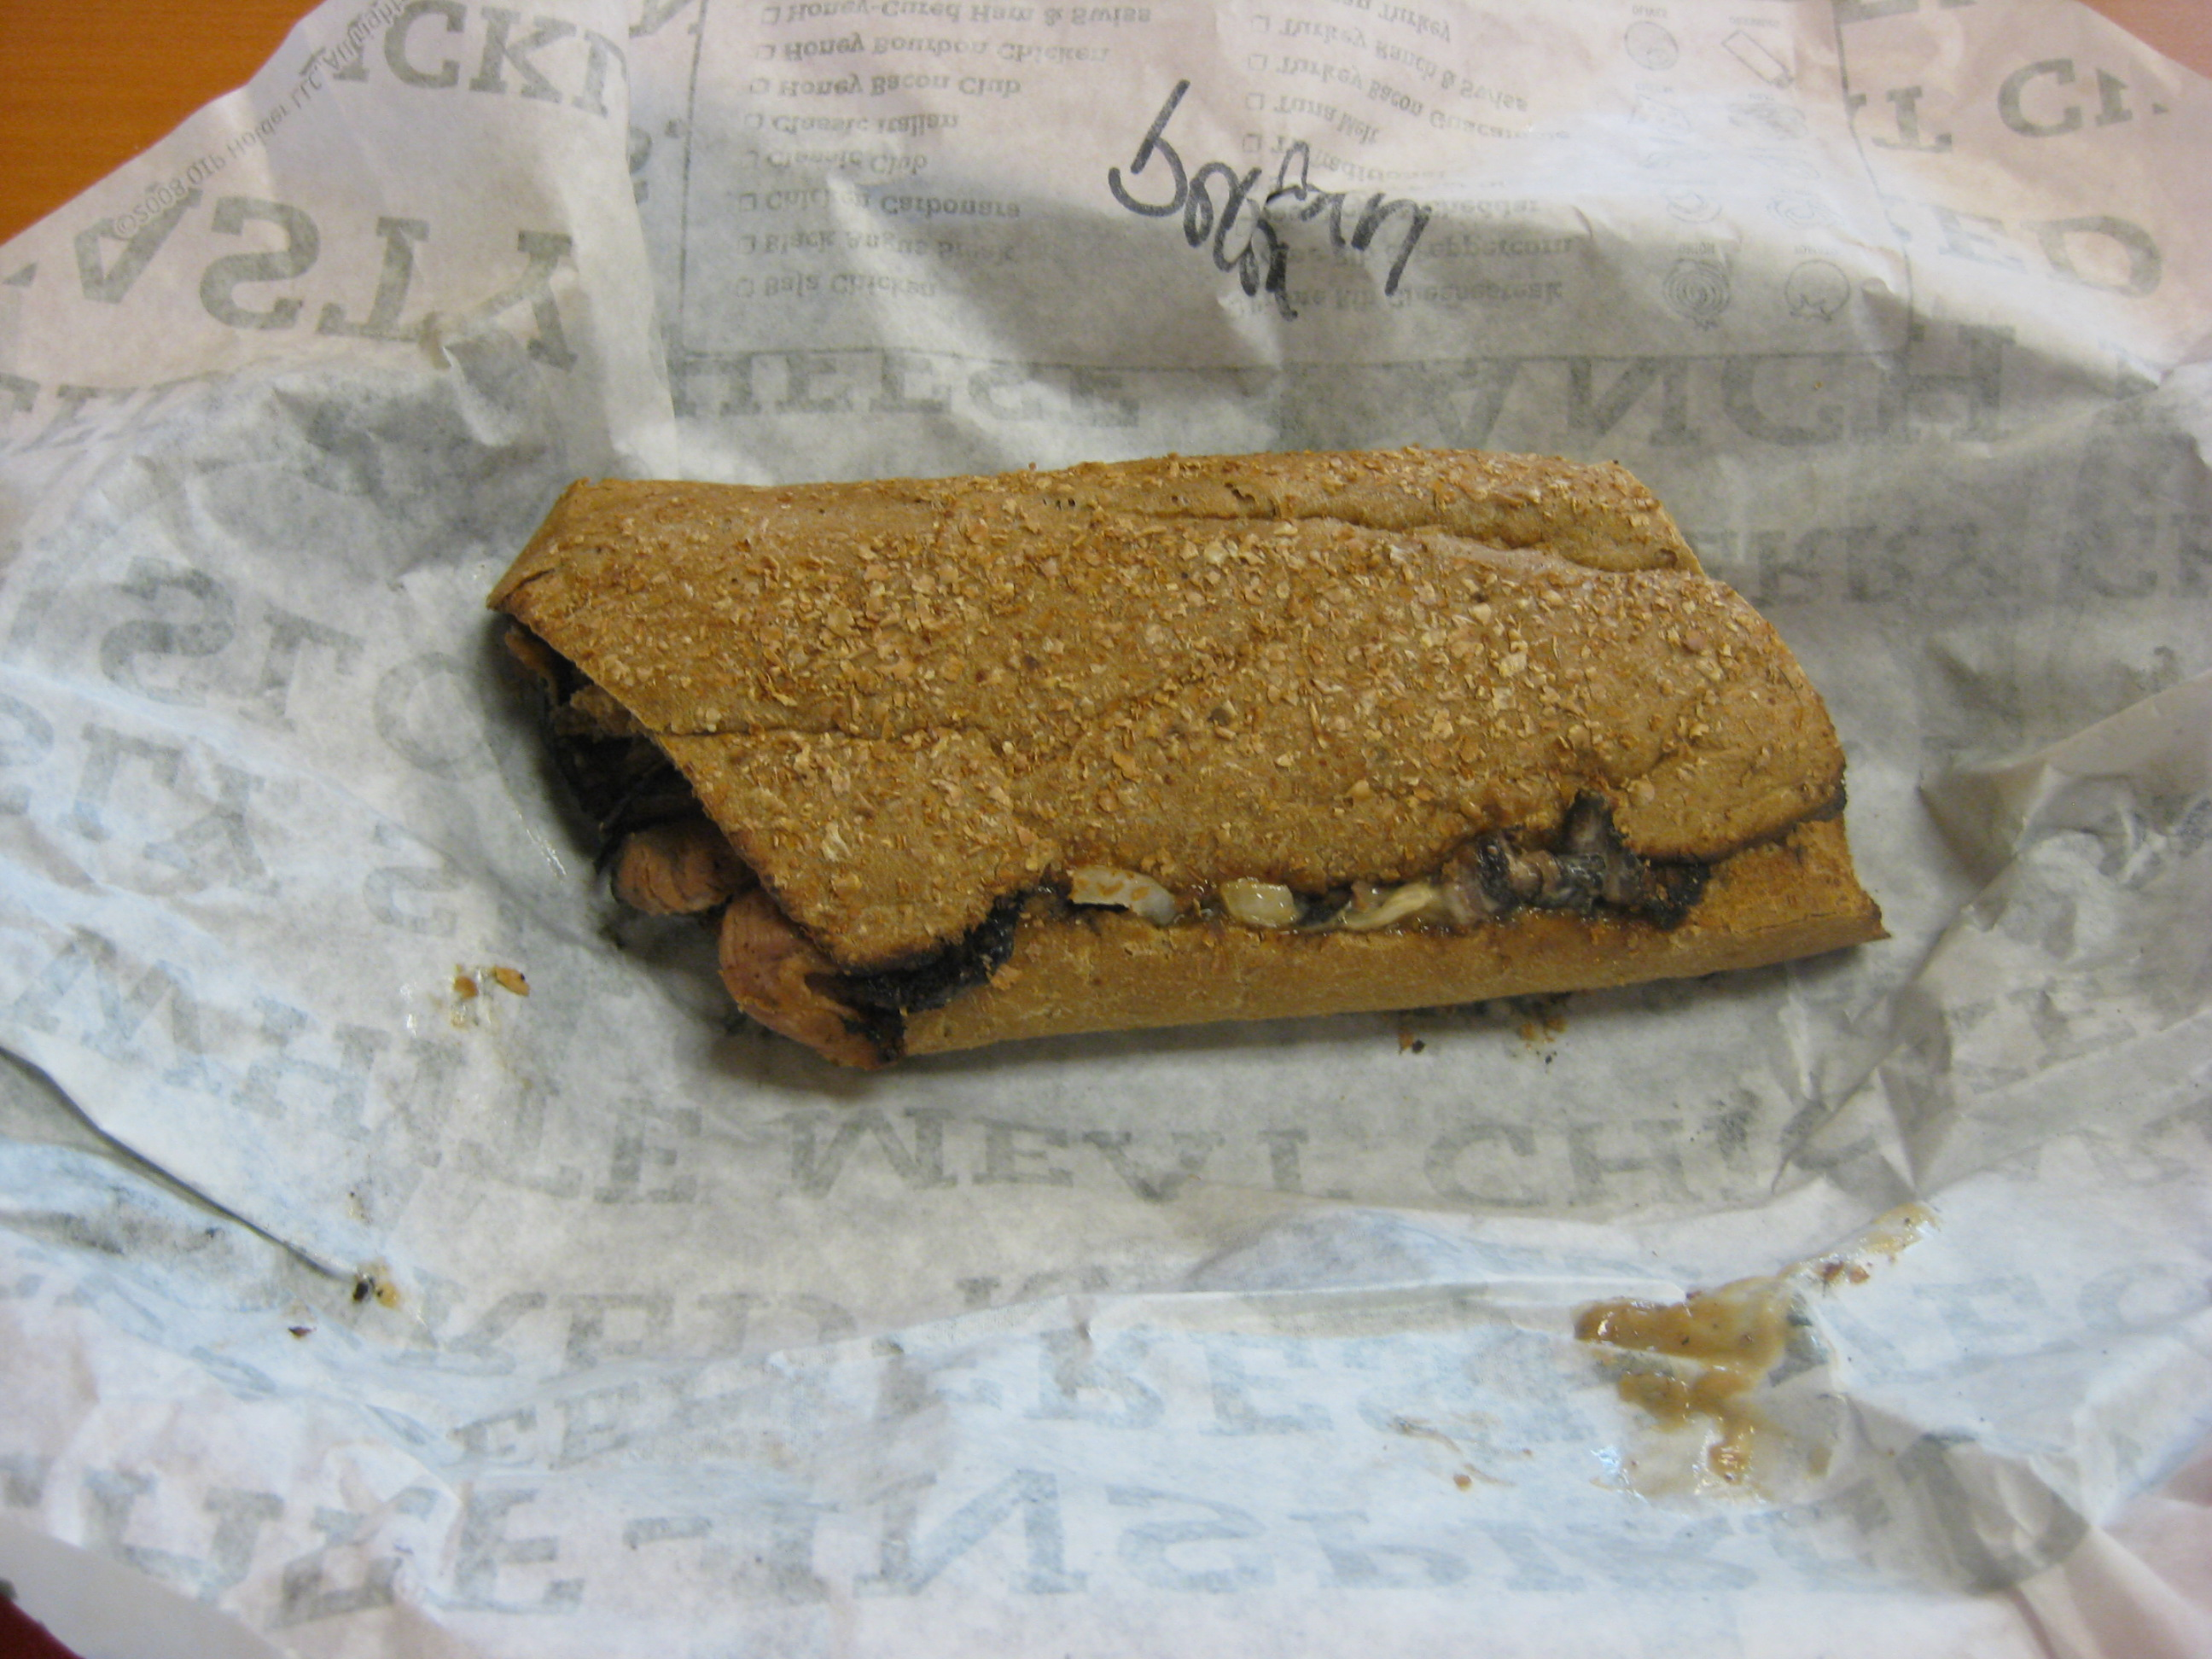sub: (467, 386, 1966, 1173)
